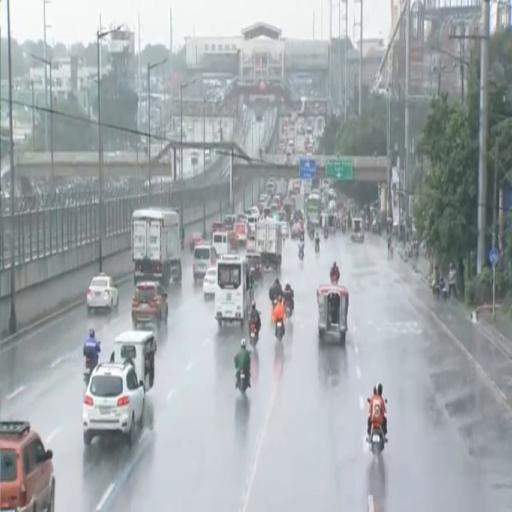bus: (215, 254, 250, 326), (306, 194, 321, 223)
car: (83, 360, 145, 445), (0, 421, 55, 511), (132, 282, 168, 329), (87, 274, 118, 311), (246, 251, 262, 279), (203, 267, 217, 298), (189, 232, 203, 251), (291, 222, 303, 239), (280, 221, 288, 237), (259, 195, 268, 204)
motorcycle: (367, 421, 386, 454), (369, 425, 384, 454), (84, 357, 97, 387), (84, 358, 95, 387), (237, 368, 247, 394), (250, 321, 258, 347), (439, 280, 447, 301), (276, 320, 284, 340), (285, 300, 293, 317), (341, 218, 347, 234), (330, 274, 339, 284), (364, 218, 369, 231), (299, 245, 303, 260), (315, 239, 319, 252), (309, 230, 314, 239), (324, 228, 328, 238)
tricycle: (317, 284, 348, 342)
truck: (132, 208, 181, 285), (255, 219, 282, 269)
